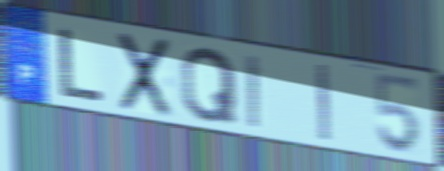5: (372, 71, 422, 158)
I: (314, 61, 333, 144), (244, 52, 263, 131)
L: (58, 25, 107, 105)
Q: (180, 45, 240, 125)
X: (116, 30, 173, 120)
